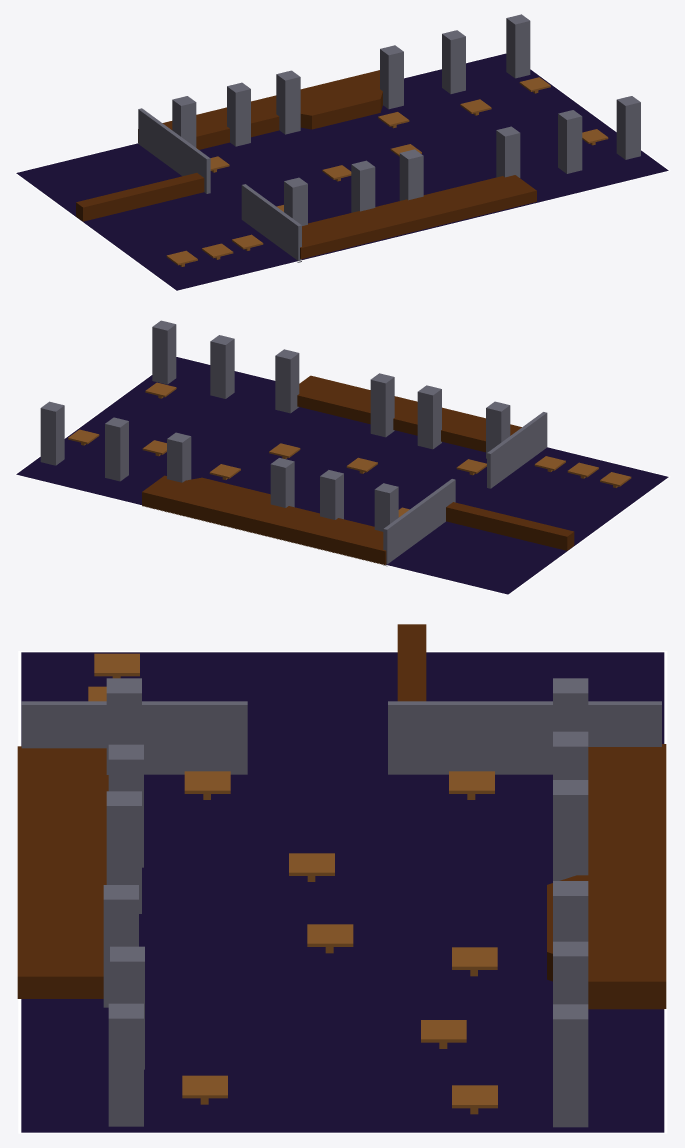
File: level-honzik.glb
3 views of the same model, one above another, from view 1: azimuth 30°, elevation 25°; view 2: azimuth 150°, elevation 25°; view 3: azimuth 270°, elevation 25° (orthographic). The views are drawn at different scales.
Parts seen in each view (by area): view 1: Ground, Cube.004, Cube, Cube.003, Cube.001, Cube.002, Plane, Cube.012, Cube.010, Cube.011, Cube.008, Cube.009 (+7 smaller); view 2: Ground, Cube, Cube.004, Cube.003, Cube.001, Cube.002, Cube.011, Cube.010, Cube.012, Cube.014, Cube.015, Cube.013 (+7 smaller); view 3: Ground, Cube.004, Cube, Cube.001, Cube.002, Plane, Cube.010, Cube.011, Cube.008, Cube.014, Cube.013, Cube.016 (+16 smaller).
Part boxes in pixels (x1,y1,x2,y2): Ground: (16,53,668,290); Cube.004: (300,175,536,259); Cube: (138,70,382,149); Cube.003: (76,173,204,221); Cube.001: (138,108,210,193); Cube.002: (241,184,301,262); Plane: (14,53,670,291); Cube.012: (558,110,582,173); Cube.010: (506,14,530,78); Cube.011: (616,96,640,159); Cube.008: (276,70,300,134); Cube.009: (442,30,465,93); Ground: (16,357,668,594); Cube: (142,475,386,564); Cube.004: (297,375,521,452); Cube.003: (446,502,574,550); Cube.001: (383,479,455,566); Cube.002: (487,412,547,488); Cube.011: (152,320,176,384); Cube.010: (40,401,64,465); Cube.012: (210,335,234,398); Cube.014: (370,373,394,437); Cube.015: (417,385,441,449); Cube.013: (275,349,299,413); Ground: (21,652,664,1132); Cube.004: (17,746,108,998); Cube: (547,744,666,1009); Cube.001: (388,701,661,774); Cube.002: (21,701,247,774); Plane: (18,651,667,1133); Cube.010: (553,1004,588,1127); Cube.011: (108,1003,143,1126); Cube.008: (553,780,588,880); Cube.014: (106,791,141,913); Cube.013: (103,885,138,1007); Cube.016: (106,678,141,774).
Size of what is drawn, in the model's own units: 54.43 by 5.86 by 30.95.
